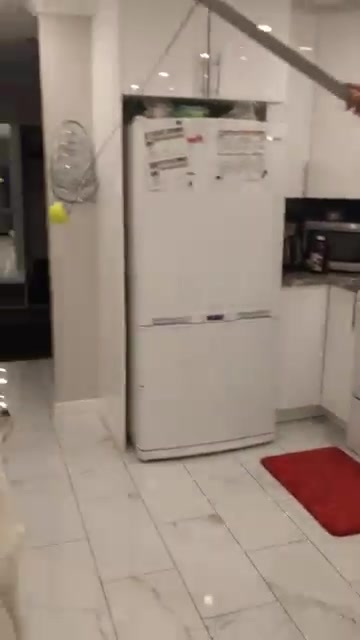tennis_ball: (47, 200, 72, 227)
